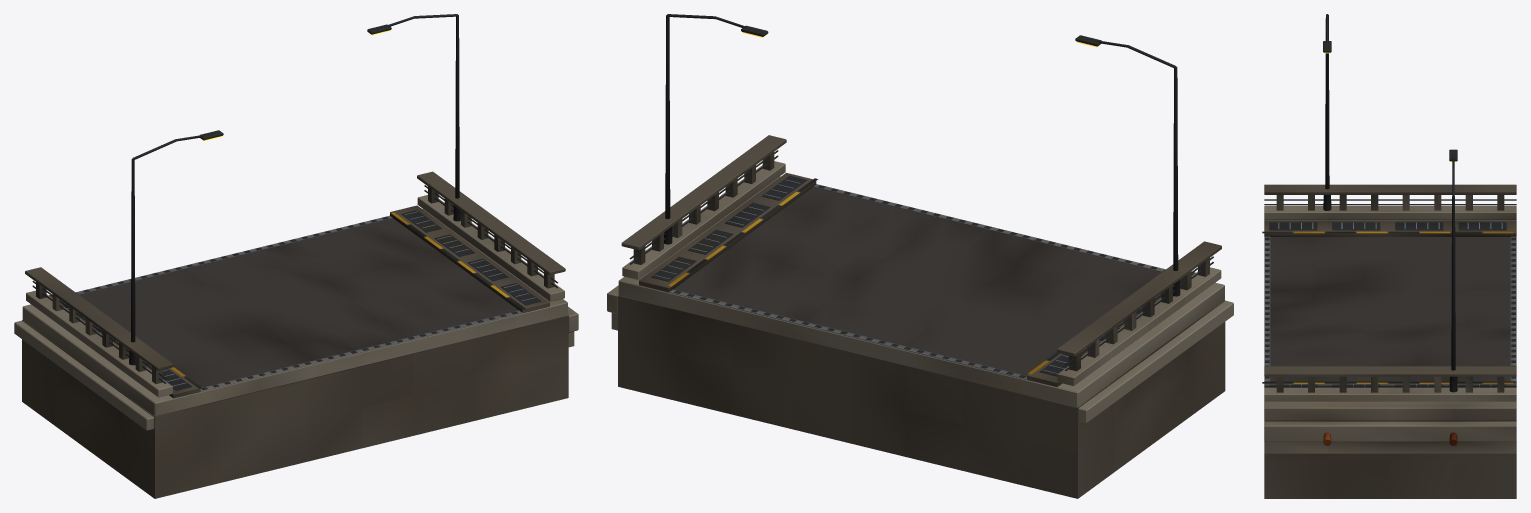
Rendered from dam_road_10m.glb.
3 views of the same model, side by side, from view 1: azimuth 30°, elevation 25°; view 2: azimuth 150°, elevation 25°; view 3: azimuth 270°, elevation 25° (orthographic). The views are drawn at different scales.
Visible parts, largest first — view 1: concrete_dark, road_surface, concrete, metal_dark, metal_bare, hazard; view 2: concrete_dark, road_surface, concrete, metal_dark, metal_bare, hazard; view 3: road_surface, concrete, concrete_dark, metal_dark, metal_bare, hazard.
Boxes of the visible parts, x1,y1,x2,y2 form: concrete_dark: [22, 171, 568, 498]; road_surface: [79, 218, 518, 387]; concrete: [14, 186, 578, 430]; metal_dark: [32, 14, 558, 390]; metal_bare: [65, 211, 535, 391]; hazard: [171, 212, 525, 388]; concrete_dark: [618, 135, 1225, 498]; road_surface: [673, 187, 1161, 375]; concrete: [607, 152, 1233, 422]; metal_dark: [629, 14, 1213, 377]; metal_bare: [654, 179, 1165, 379]; hazard: [668, 178, 1059, 374]; road_surface: [1270, 237, 1510, 381]; concrete: [1264, 195, 1516, 453]; concrete_dark: [1264, 184, 1516, 498]; metal_dark: [1264, 14, 1516, 392]; metal_bare: [1264, 222, 1516, 387]; hazard: [1262, 231, 1513, 383].
Size of what is drawn, in the model's own units: 19.33 by 13.39 by 10.07.
